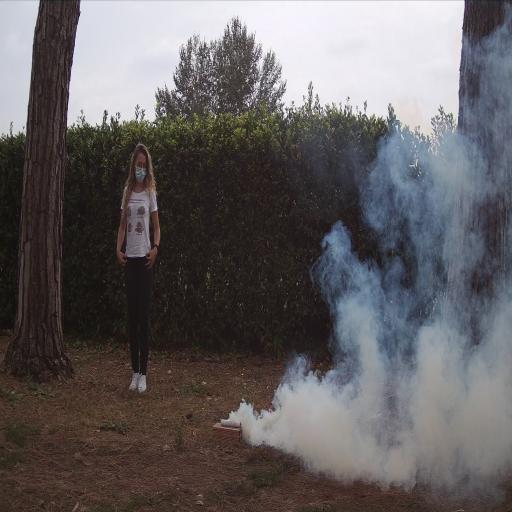leakage: (217, 2, 512, 512)
